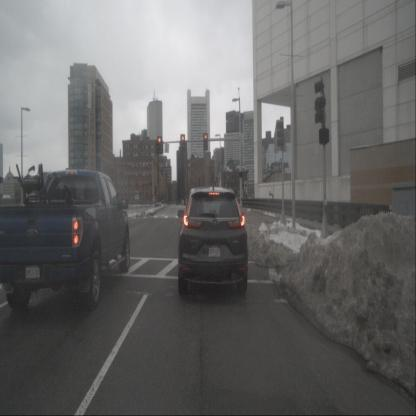vehicle-car: (178, 186, 248, 294)
vehicle-truck: (0, 169, 131, 312)
